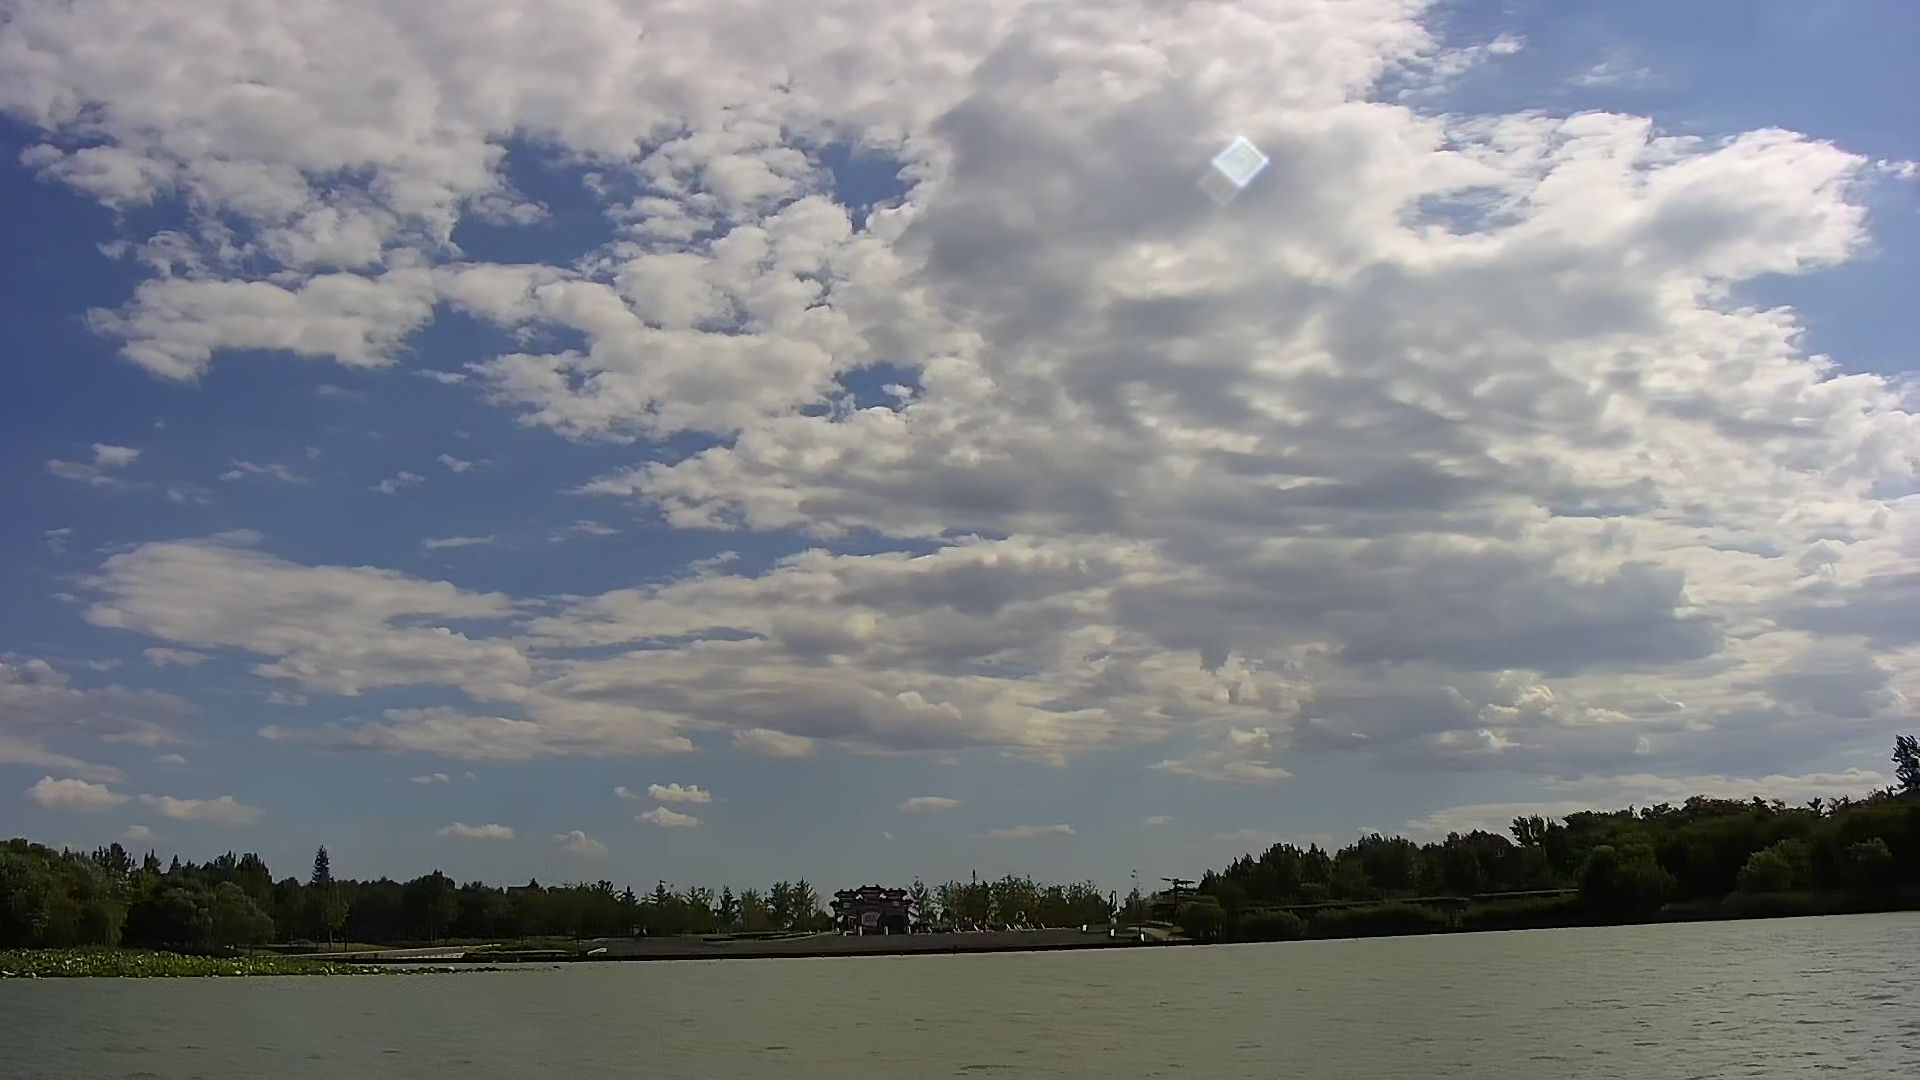grass: (3, 949, 467, 982)
